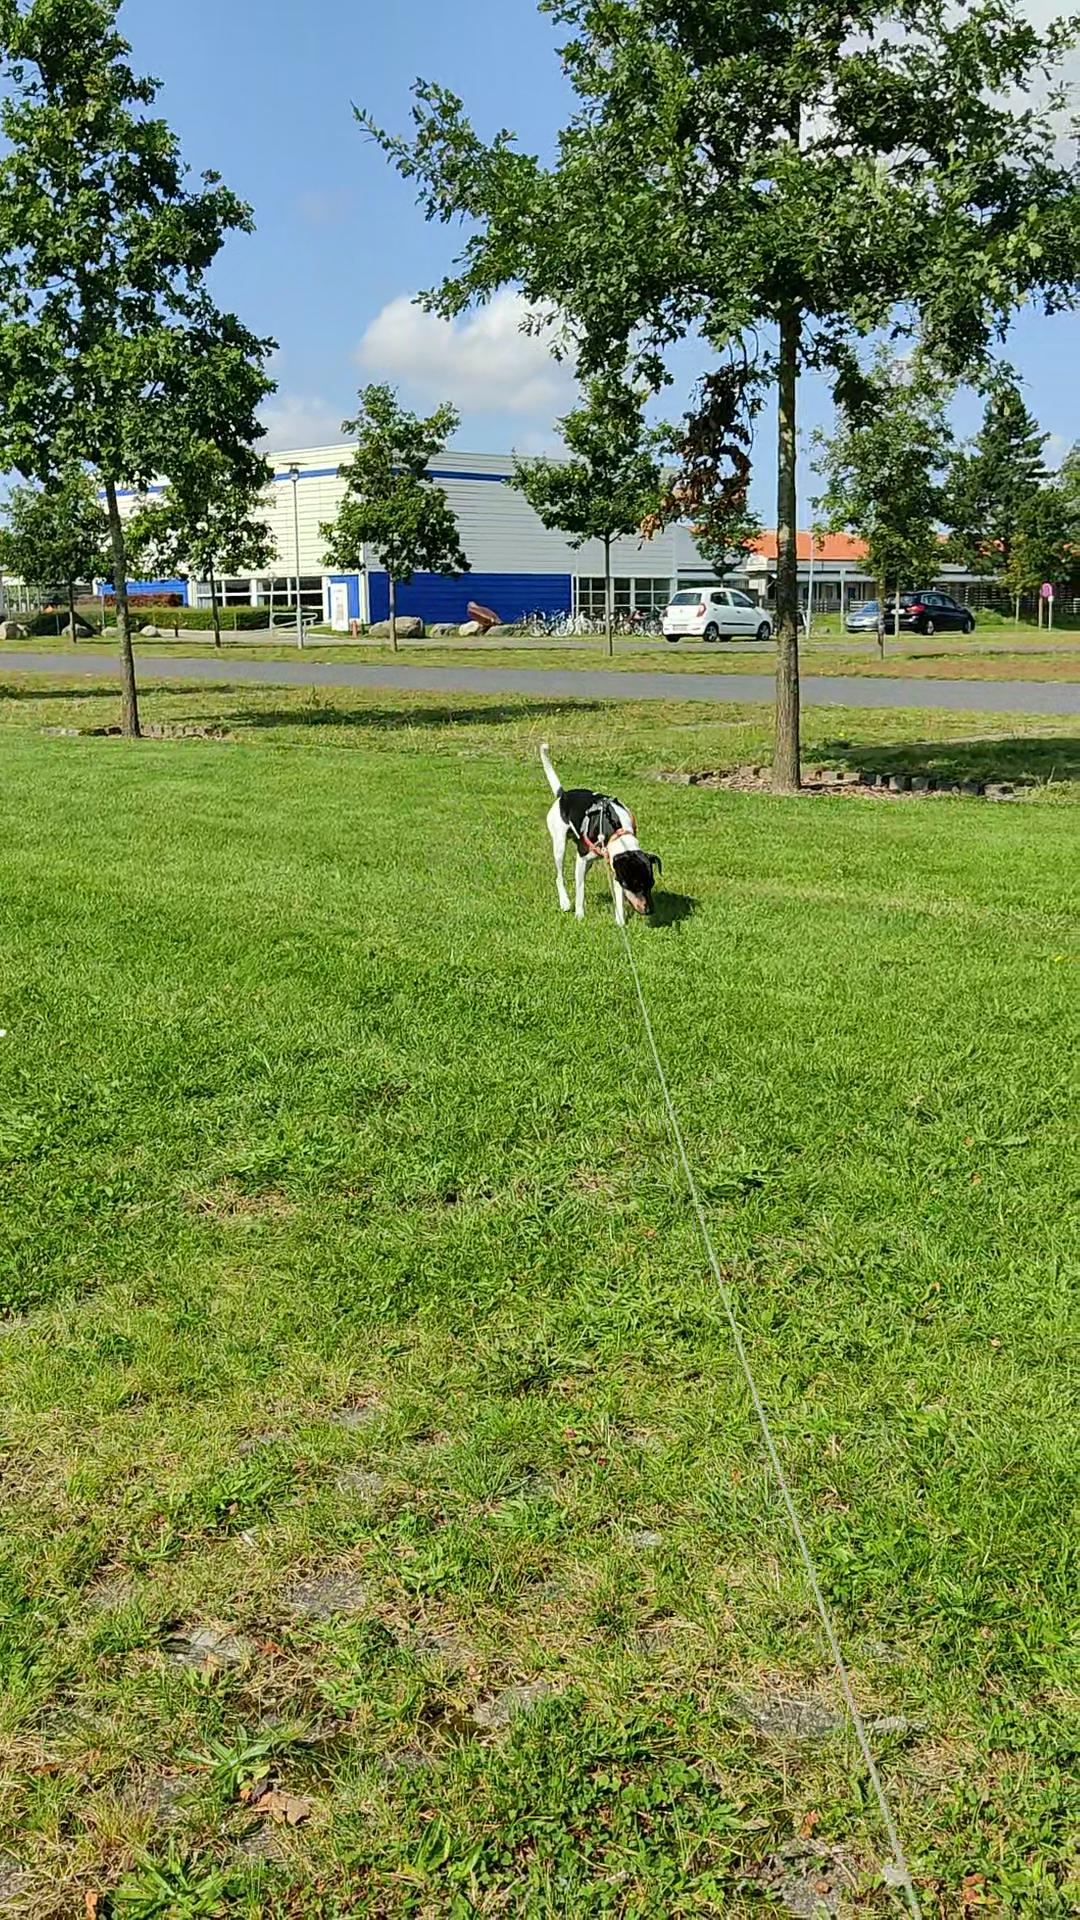Dog: (531, 735, 663, 923)
